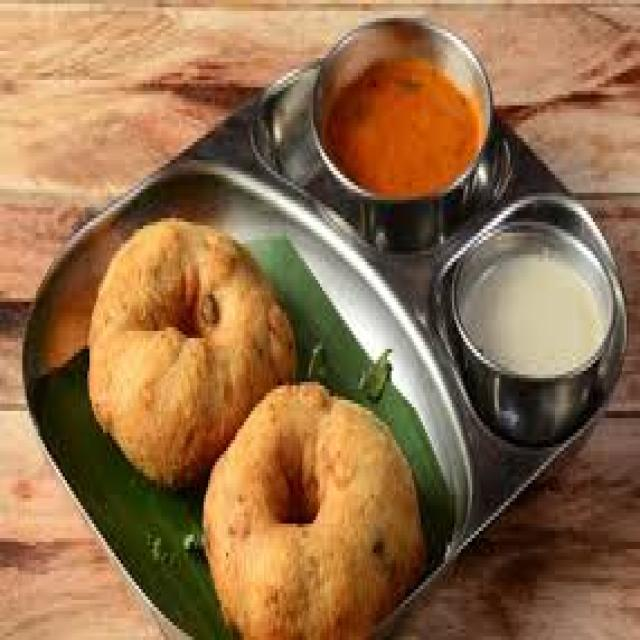MEDU VADA: (204, 382, 423, 636), (90, 218, 295, 484)
